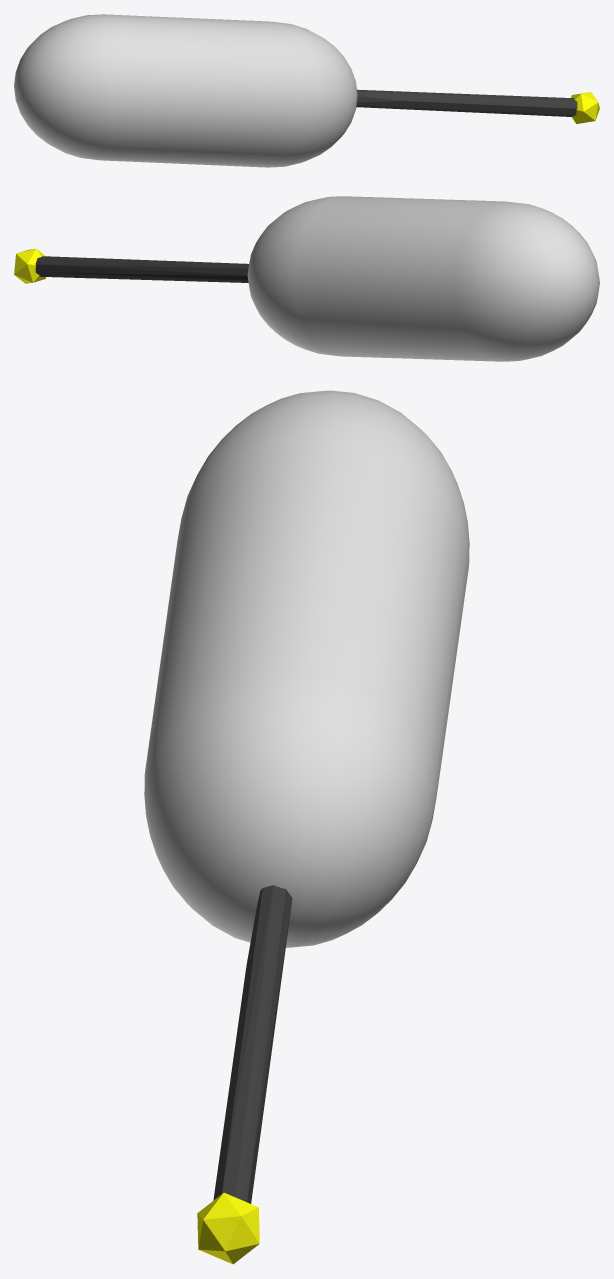
File: SparklerAnchor.fbx
The picture shows the model from 3 angles, top to bottom: view 1: azimuth 30°, elevation 25°; view 2: azimuth 150°, elevation 25°; view 3: azimuth 270°, elevation 25°; orthographic projection. The views are drawn at different scales.
Parts seen in each view (by area): view 1: Capsule__8_, sparkler, sparklertip; view 2: Capsule__8_, sparkler, sparklertip; view 3: Capsule__8_, sparkler, sparklertip.
Part boxes in pixels (x1,y1,x2,y2): Capsule__8_: (14, 14, 357, 167); sparkler: (356, 89, 577, 116); sparklertip: (571, 92, 599, 123); Capsule__8_: (247, 196, 599, 361); sparkler: (35, 256, 248, 282); sparklertip: (14, 248, 45, 283); Capsule__8_: (144, 390, 469, 947); sparkler: (213, 885, 292, 1203); sparklertip: (197, 1192, 259, 1264).
Bounding box in the file's own units: 27.18 × 9.31 × 6.93.
